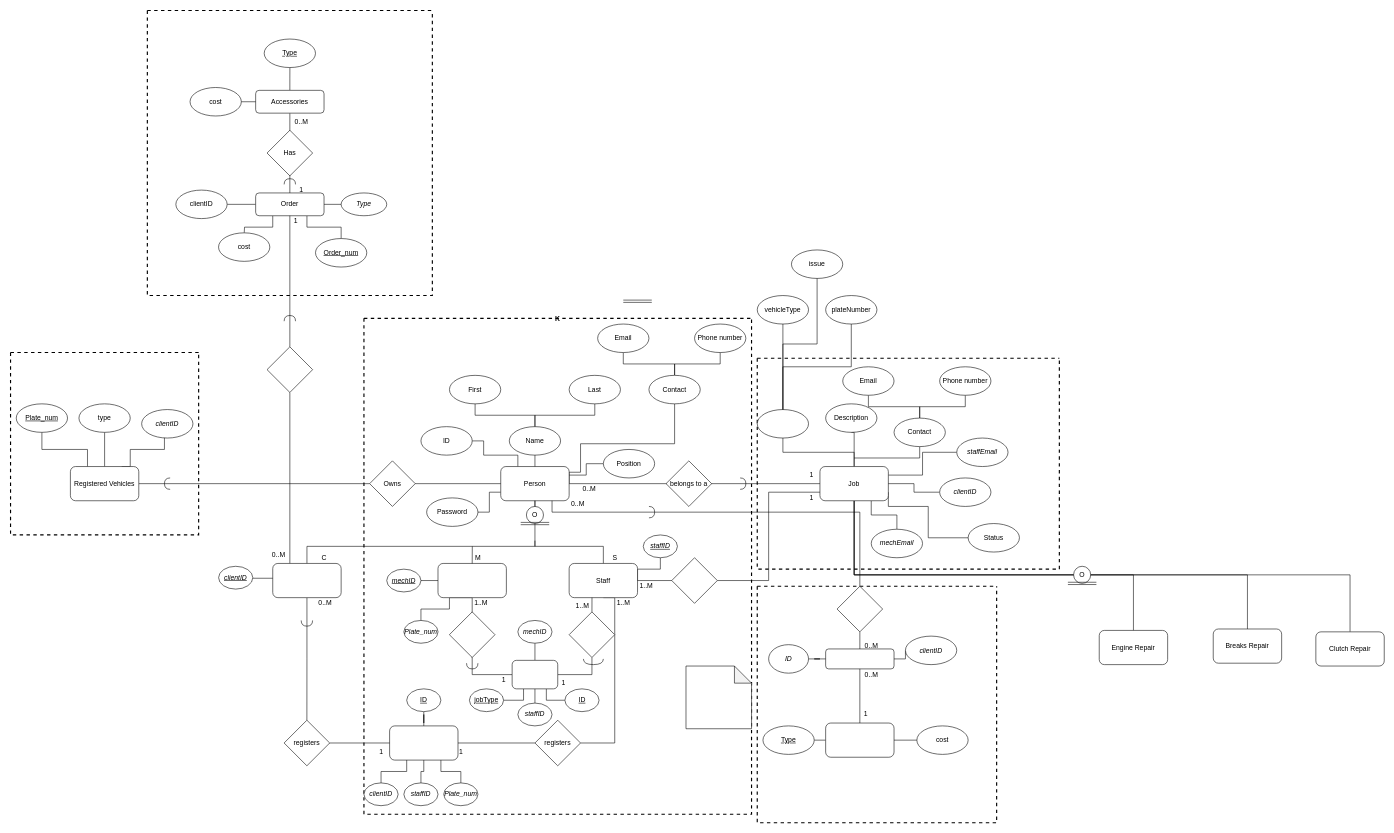
Some shapes in this 1394 by 833 pixel diagram are drawn without their labels. Each missing label, with the centre of its shape:
"ASK ABOUT REGISTRATION INFO" goes at pixel 718 697.
"Assignment" goes at pixel 535 674.
"asssigns" goes at pixel 592 634.
"Clients" goes at pixel 306 580.
"Creates" goes at pixel 694 580.
"is assigned" goes at pixel 472 634.
"Mechanic" goes at pixel 471 580.
"Orders" goes at pixel 859 609.
"Places" goes at pixel 289 369.
"Registration" goes at pixel 423 742.
"Repair" goes at pixel 859 658.
"VehicleComponenets" goes at pixel 859 739.
"VehicleInfo" goes at pixel 783 423.
